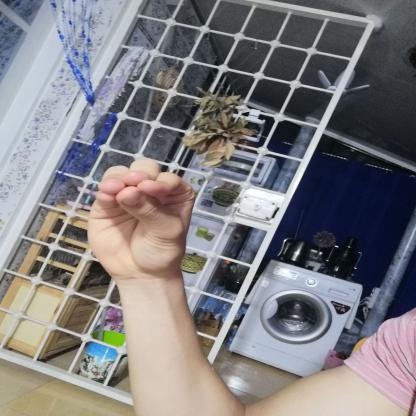HA: (67, 148, 214, 289)
